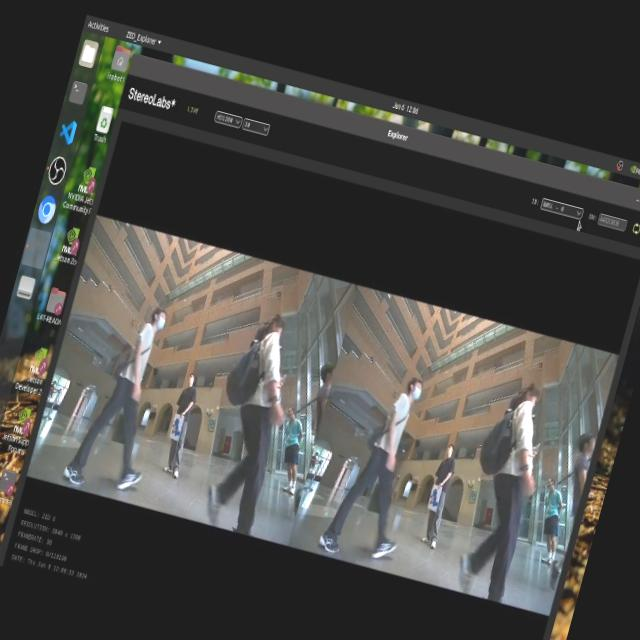blue: (169, 415, 189, 441), (424, 484, 440, 511)
